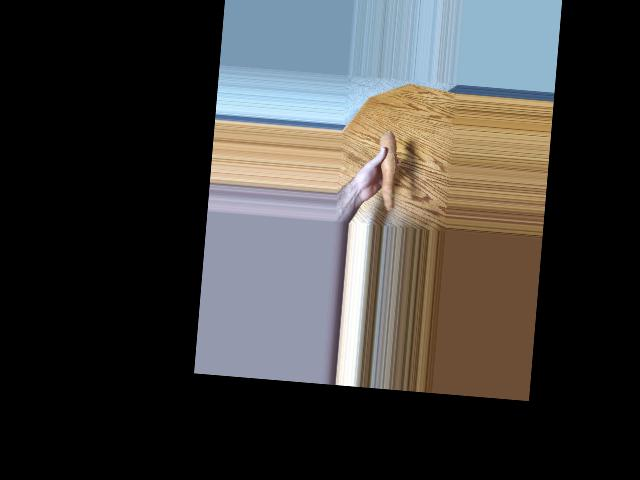sweet_potato: (377, 132, 401, 214)
